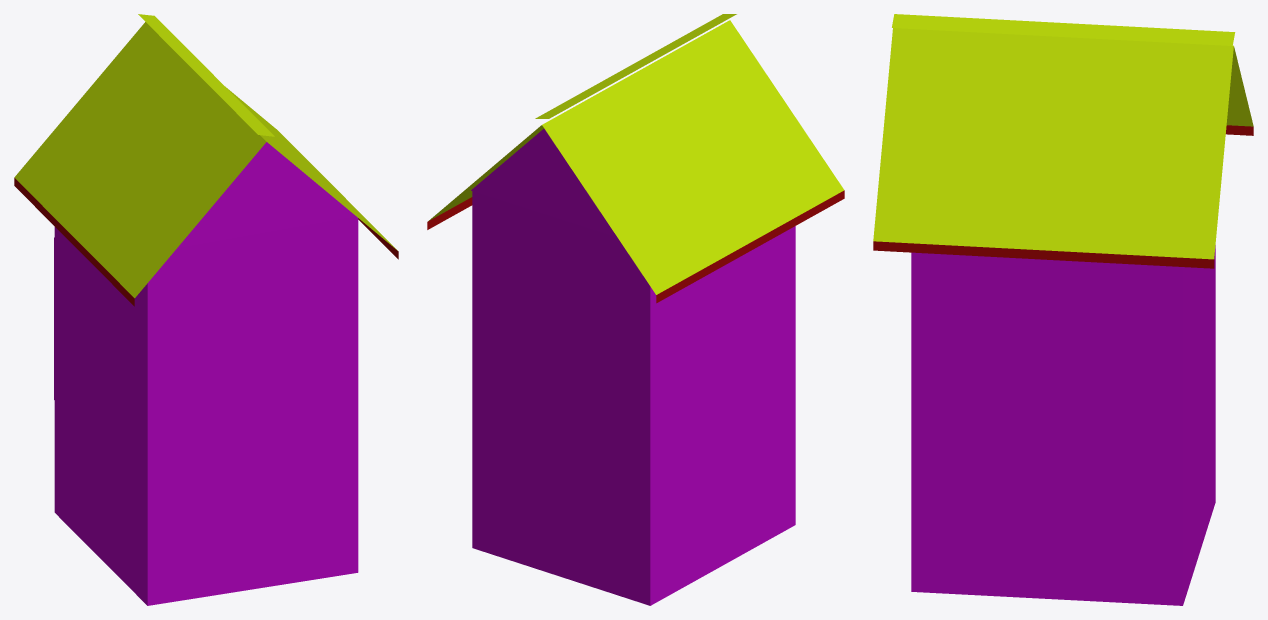
The model's file is rmc_14.glb.
3 views of the same model, side by side, from view 1: azimuth 30°, elevation 25°; view 2: azimuth 150°, elevation 25°; view 3: azimuth 270°, elevation 25° (orthographic). The views are drawn at different scales.
Parts seen in each view (by area): view 1: rmc_14; view 2: rmc_14; view 3: rmc_14.
Boxes of the visible parts, x1=… form: rmc_14: x1=14, y1=14, x2=398, y2=605; rmc_14: x1=427, y1=14, x2=844, y2=605; rmc_14: x1=873, y1=14, x2=1253, y2=605.
Bounding box in the file's own units: 4.2 × 6.74 × 4.47.
